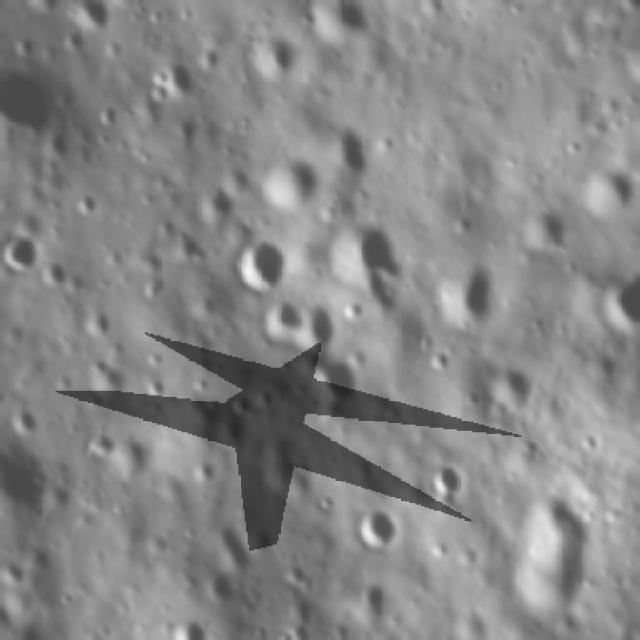crater: (327, 222, 401, 303), (522, 484, 598, 558), (0, 64, 65, 138), (260, 150, 326, 215), (320, 116, 382, 182), (444, 258, 499, 330), (306, 352, 366, 410), (232, 234, 291, 292), (581, 160, 637, 217), (487, 357, 542, 408), (320, 1, 383, 44), (101, 432, 154, 482), (350, 506, 399, 556), (250, 30, 301, 78), (520, 203, 566, 255), (216, 518, 258, 572), (298, 302, 342, 353), (265, 296, 306, 346), (158, 55, 198, 103), (66, 1, 116, 38), (2, 229, 40, 277), (199, 565, 239, 606), (200, 181, 234, 224), (79, 300, 116, 338), (83, 424, 120, 461), (428, 462, 462, 500), (36, 256, 70, 289), (69, 183, 100, 217), (427, 346, 459, 376), (13, 406, 42, 439), (284, 561, 313, 588), (190, 458, 218, 485), (94, 100, 120, 128), (230, 389, 255, 416), (457, 385, 481, 413), (255, 384, 279, 411), (145, 377, 167, 403), (317, 490, 335, 518)
